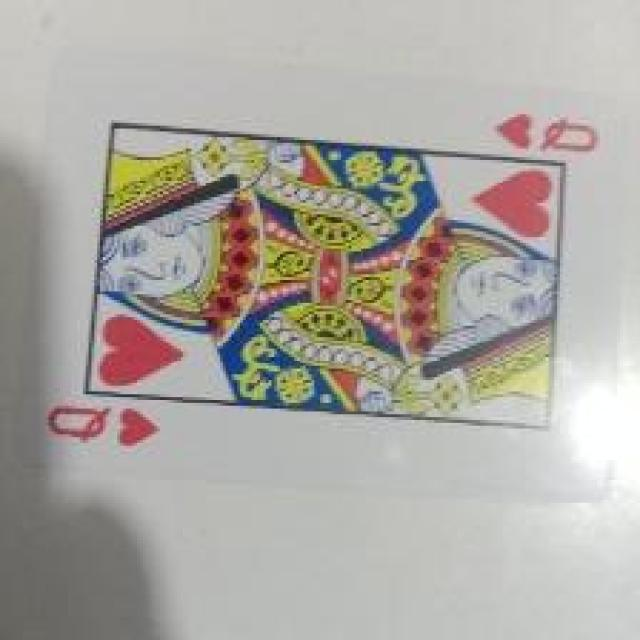Queen of hearts: (0, 51, 640, 503)
